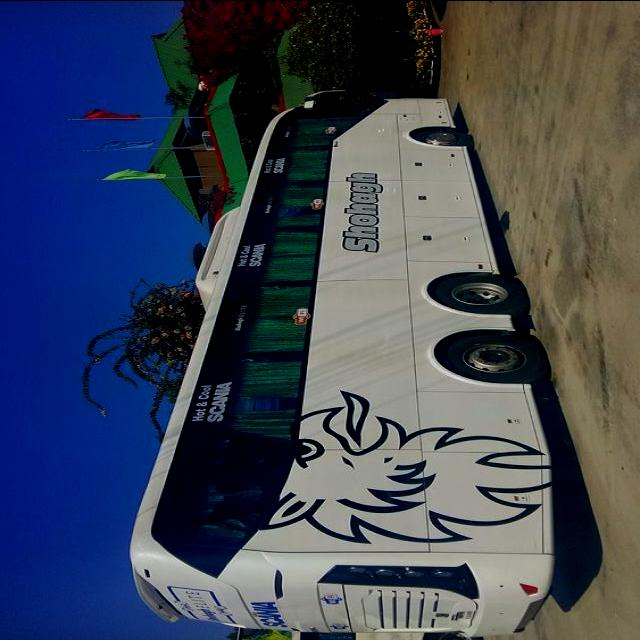bus: (126, 89, 559, 639)
